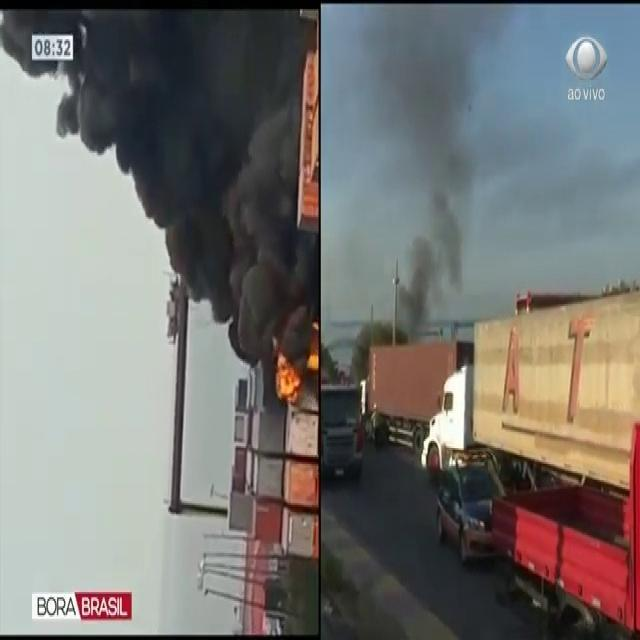Fire: (274, 334, 320, 404)
Smoke: (92, 0, 330, 370), (354, 7, 489, 308)
